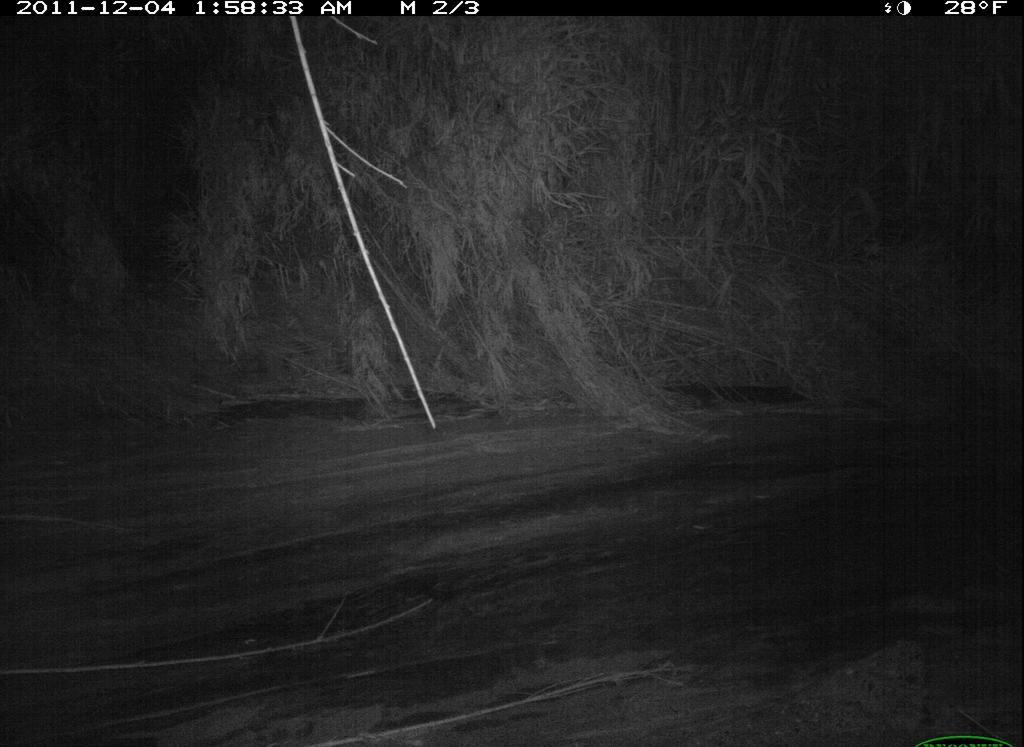raccoon: (477, 217, 793, 436)
